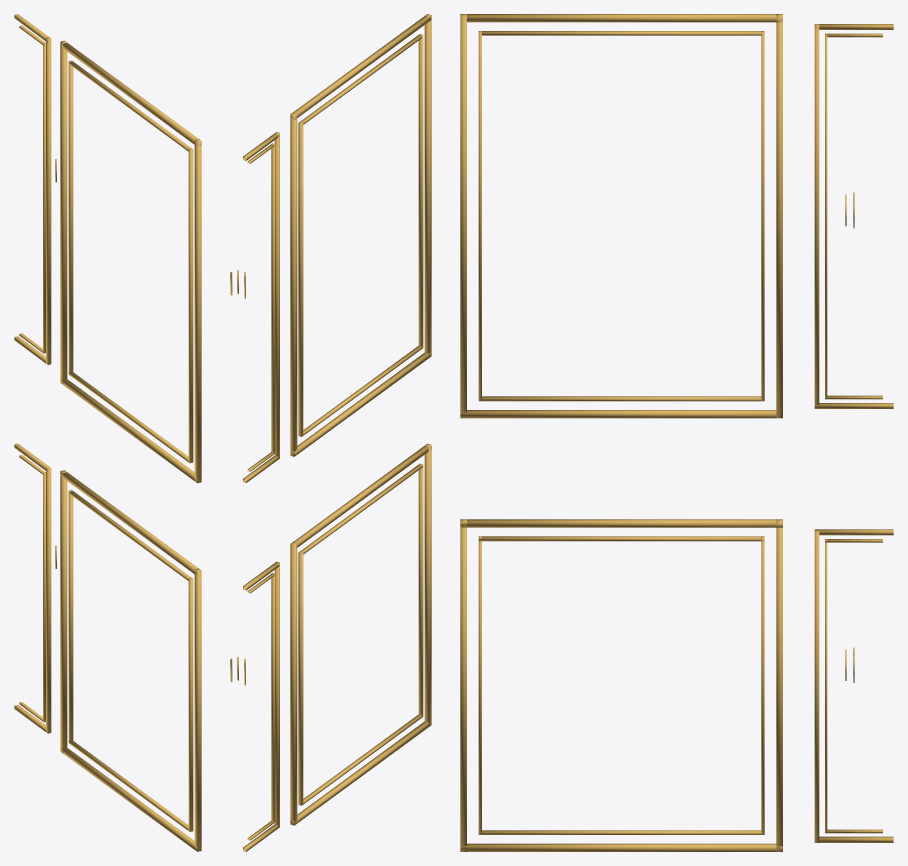
File: KRM_M28_P5MOD_gilt_frames.fbx
3 renders of one model, left to right at view 1: azimuth 30°, elevation 25°; view 2: azimuth 150°, elevation 25°; view 3: azimuth 270°, elevation 25°, orthographic. The views are drawn at different scales.
Visible parts, largest first — view 1: KRM_M28_P5MOD_gilt_frames; view 2: KRM_M28_P5MOD_gilt_frames; view 3: KRM_M28_P5MOD_gilt_frames.
Boxes of the visible parts, x1,y1,x2,y2 form: KRM_M28_P5MOD_gilt_frames: [14, 14, 201, 851]; KRM_M28_P5MOD_gilt_frames: [230, 14, 431, 851]; KRM_M28_P5MOD_gilt_frames: [460, 14, 893, 851].
Bounding box in the file's own units: 48.8 × 992 × 466.
Materials: 1 (1 with a texture image).
